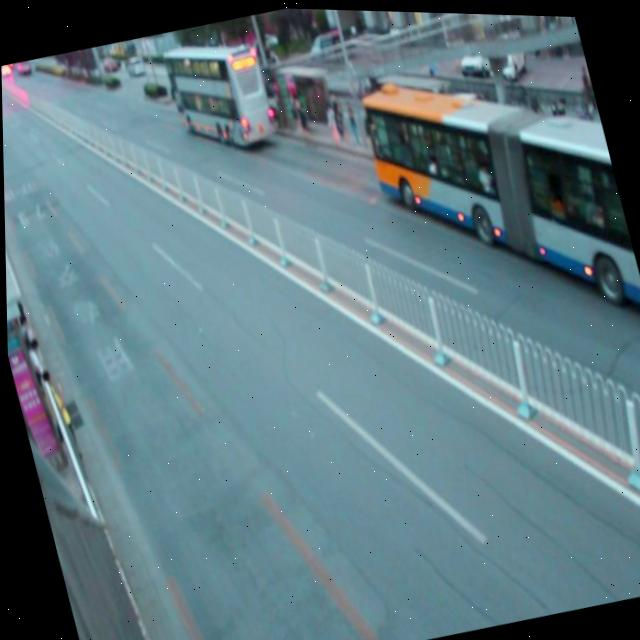van: (354, 38, 640, 346), (159, 28, 276, 159)
